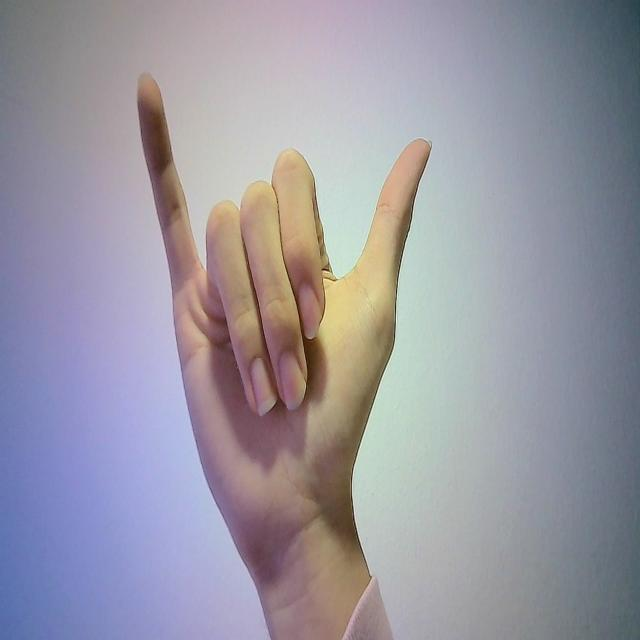Y: (119, 49, 444, 542)
